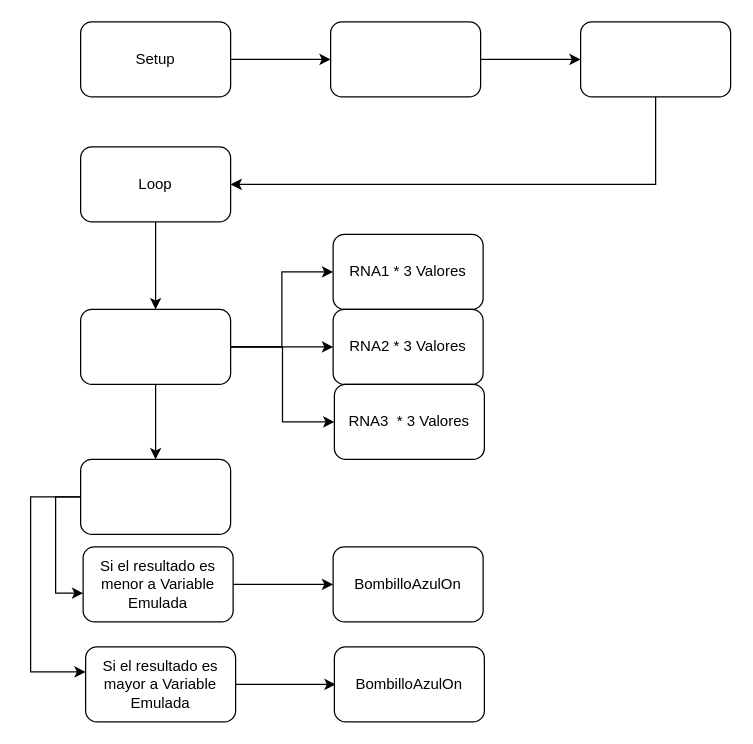
Some shapes in this 753 by 744 pixel diagram are drawn without their labels. The box of each missing label's shape, as (x1, y1, x2, y2) in pixels:
Condiciones: (79, 458, 231, 534)
Configura 1 led: (329, 21, 481, 97)
Define Variables: (579, 21, 731, 97)
Emula valores RNA: (79, 308, 231, 384)
